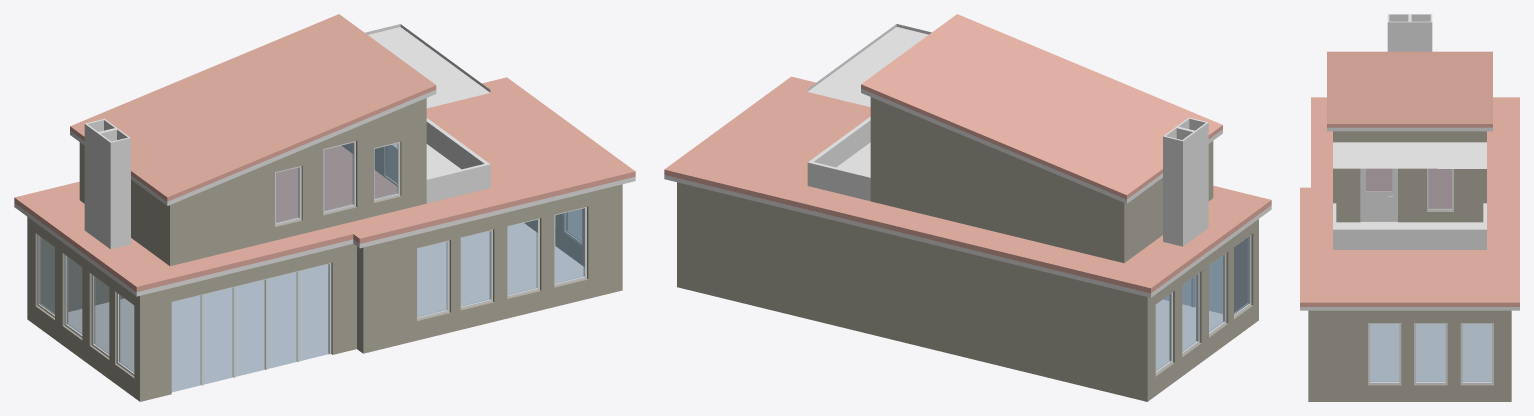
Rendered from Building 2.gltf.
3 views of the same model, side by side, from view 1: azimuth 30°, elevation 25°; view 2: azimuth 150°, elevation 25°; view 3: azimuth 270°, elevation 25° (orthographic). The views are drawn at different scales.
Visible parts, largest first — view 1: Ground floor-Mat.7, 2nd floor-Mat.8, Ground floor-Mat.8, 2nd floor-Mat.7, Cube.6, Cube.4, Cube.2, Ground floor-white, window12-Glass, window9-Glass, window11-Glass, window10-Glass (+16 smaller); view 2: Ground floor-Mat.7, 2nd floor-Mat.8, Ground floor-Mat.8, 2nd floor-Mat.7, Cube.6, Cube.4, Cube.2, Ground floor-white, 2nd floor-white, window15-Glass, window16-Glass, window17-Glass (+2 smaller); view 3: Ground floor-Mat.8, 2nd floor-Mat.8, Ground floor-Mat.7, 2nd floor-Mat.7, Cube.2, Cube.4, window4-Glass (×2), window2-Glass, window3-Glass, Cube.6, Door.2-white, Ground floor-white (+6 smaller).
Part boxes in pixels (x1,y1,x2,y2): Ground floor-Mat.7: (27, 184, 622, 401); 2nd floor-Mat.8: (70, 14, 436, 201); Ground floor-Mat.8: (14, 77, 635, 291); 2nd floor-Mat.7: (79, 98, 426, 266); Cube.6: (84, 119, 130, 249); Cube.4: (365, 24, 490, 108); Cube.2: (393, 118, 490, 203); Ground floor-white: (14, 176, 635, 296); window12-Glass: (267, 272, 297, 368); window9-Glass: (172, 295, 201, 392); window11-Glass: (235, 280, 264, 376); window10-Glass: (204, 287, 233, 384); Ground floor-Mat.7: (677, 182, 1258, 401); 2nd floor-Mat.8: (861, 14, 1222, 199); Ground floor-Mat.8: (664, 76, 1271, 293); 2nd floor-Mat.7: (870, 97, 1213, 263); Cube.6: (1163, 117, 1208, 246); Cube.4: (807, 24, 931, 107); Cube.2: (807, 116, 870, 201); Ground floor-white: (664, 175, 1271, 297); 2nd floor-white: (861, 88, 1222, 203); window15-Glass: (1209, 255, 1224, 332); window16-Glass: (1182, 274, 1197, 351); window17-Glass: (1155, 294, 1170, 371); Ground floor-Mat.8: (1300, 97, 1519, 306); 2nd floor-Mat.8: (1327, 51, 1492, 127); Ground floor-Mat.7: (1308, 310, 1511, 401); 2nd floor-Mat.7: (1333, 131, 1486, 222); Cube.2: (1333, 203, 1486, 249); Cube.4: (1333, 142, 1486, 168); window4-Glass (×2): (1428, 168, 1491, 382); window2-Glass: (1370, 324, 1399, 382); window3-Glass: (1416, 324, 1445, 382); Cube.6: (1387, 14, 1432, 51); Door.2-white: (1362, 168, 1395, 221); Ground floor-white: (1300, 307, 1519, 310).
Bounding box in the file's own units: 387 × 180 × 175.
